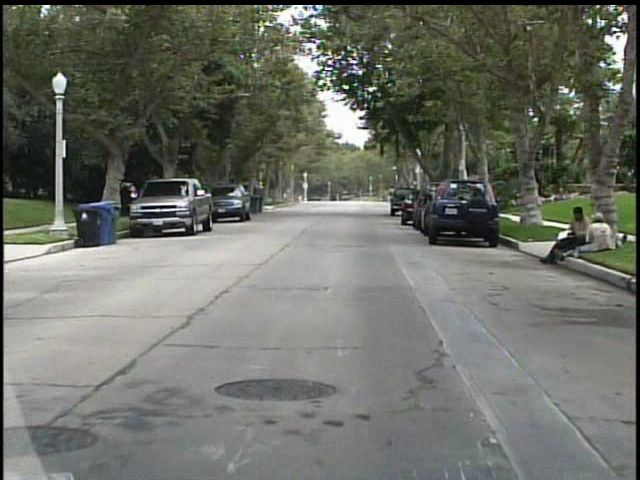person: (541, 206, 588, 267), (580, 210, 614, 253)
